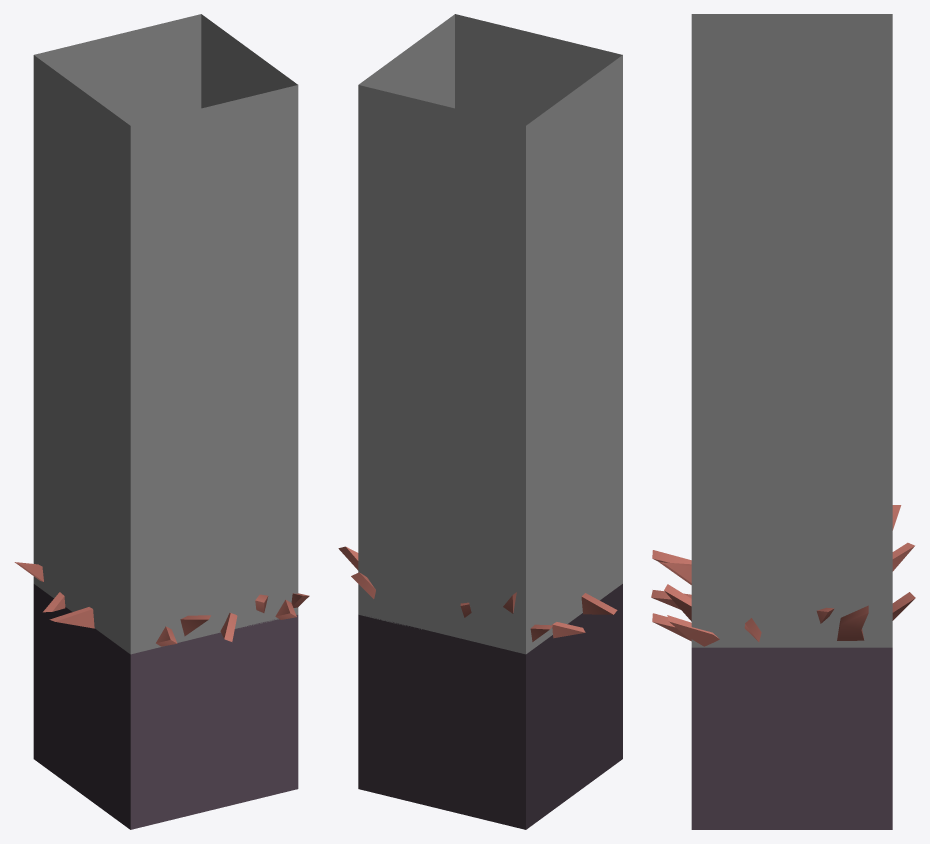
Rendered from tile_exit.FBX.
3 views of the same model, side by side, from view 1: azimuth 30°, elevation 25°; view 2: azimuth 150°, elevation 25°; view 3: azimuth 270°, elevation 25° (orthographic). The views are drawn at different scales.
Visible parts, largest first — view 1: tile_exit; view 2: tile_exit; view 3: tile_exit.
Part boxes in pixels (<box>): tile_exit: <box>14,14,309,829</box>; tile_exit: <box>338,14,622,829</box>; tile_exit: <box>651,14,915,829</box>.
Bounding box in the file's own units: 55.29 × 158 × 51.87.
